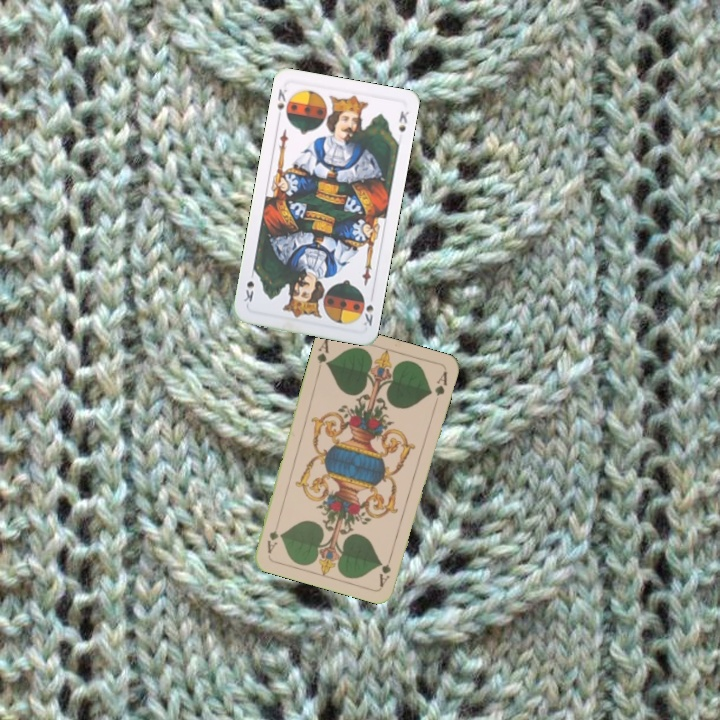GA: (375, 549, 395, 589), (313, 335, 332, 375)
SK: (273, 85, 294, 123), (359, 289, 376, 328)
